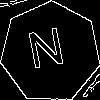N: (25, 27, 68, 79)
